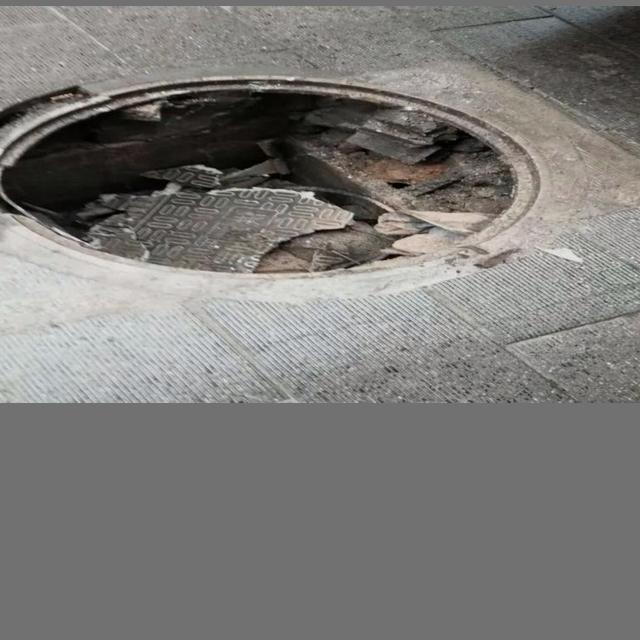broke: (0, 68, 546, 298)
